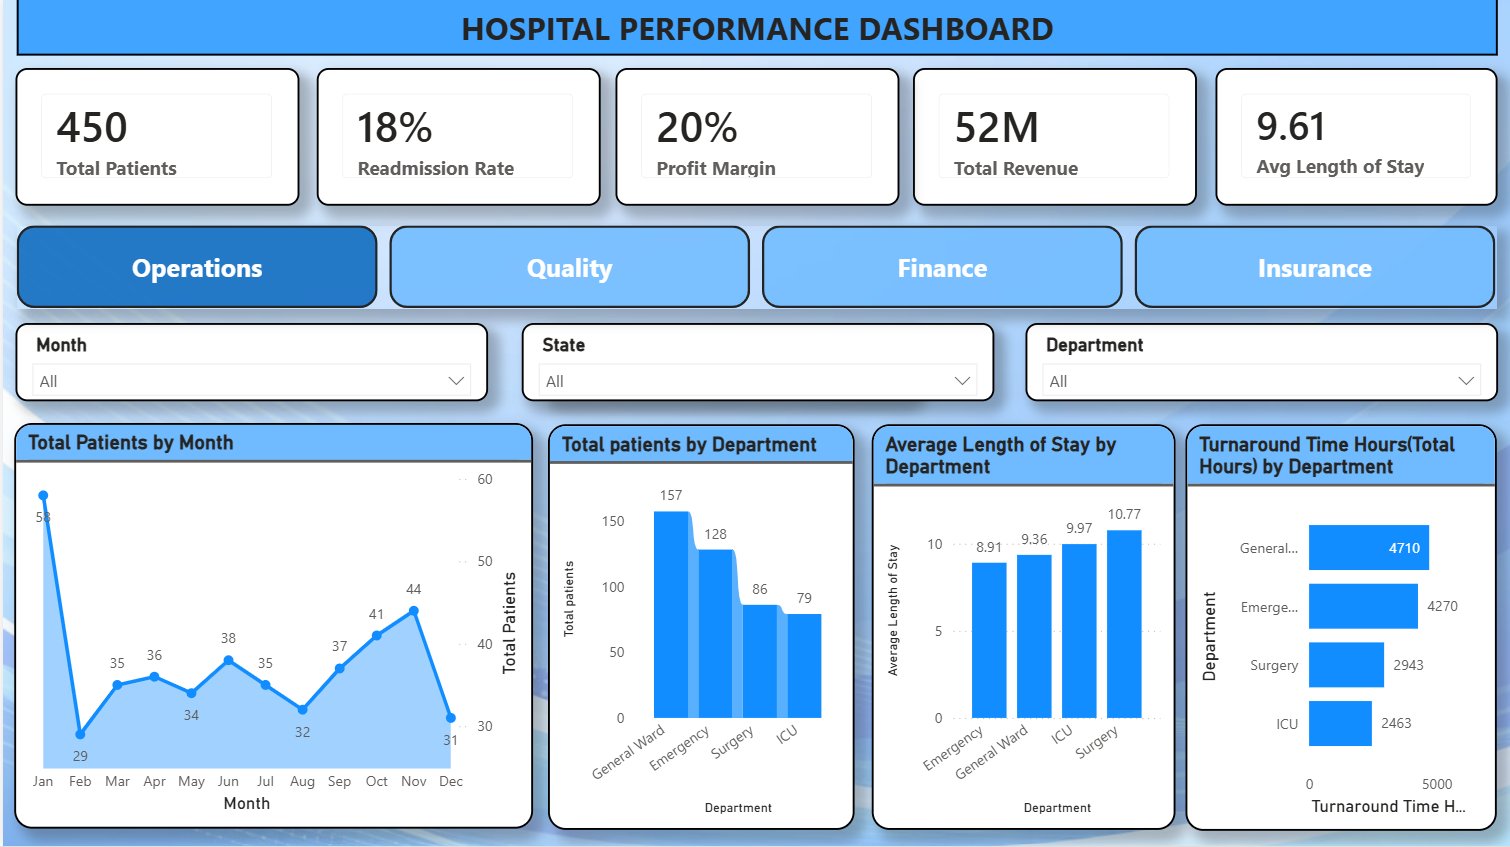

The dashboard page shown, as its layout file describes it:
{"tool":"powerbi","page":{"name":"Page 1","canvas":[1280,720],"ordinal":0},"visuals":[{"type":"textbox","box":[11.6,0,1256.4,48.8],"z":0},{"type":"lineChart","fields":{"Category":["Sheet1.Month"],"Y":["Sum(Sheet1.Infection_Flag)"]},"box":[9.7,360.3,438.3,343.7],"z":0,"group":"g1"},{"type":"actionButton","box":[457.6,275.4,314.6,64.7],"z":1000},{"type":"clusteredBarChart","fields":{"Category":["Sheet1.Department"],"Y":["Sheet1.Readmission Rate"]},"box":[461.9,360.3,260.2,343.7],"z":1000,"group":"g1"},{"type":"slicer","fields":{"Values":["Sheet1.Month"]},"box":[11.1,275.5,400.7,66.8],"z":2000},{"type":"gauge","fields":{"TargetValue":["Sum(Sheet1.Target_Satisfaction)"],"Y":["Avg(Sheet1.Satisfaction_Score)"]},"box":[737.4,363.1,257.4,343.7],"z":2000,"group":"g1"},{"type":"slicer","fields":{"Values":["Sheet1.State"]},"box":[439.7,275.5,400.7,66.8],"z":3000},{"type":"barChart","fields":{"Y":["Sheet1.Mortality Rate %"],"Category":["Sheet1.Department"]},"box":[1003.1,363.1,264.3,343.7],"z":3000,"group":"g1"},{"type":"slicer","fields":{"Values":["Sheet1.Department"]},"box":[866.8,275.5,400.7,66.8],"z":4000},{"type":"cardVisual","title":"Total Patients","fields":{"Data":["Sheet1.total patients"]},"box":[11.1,59.8,240.7,116.9],"z":5000},{"type":"cardVisual","fields":{"Data":["Sum(Sheet1.Revenue)"]},"box":[772.2,59.8,240.7,116.9],"z":6000},{"type":"cardVisual","fields":{"Data":["Sheet1.Readmission Rate"]},"box":[265.7,59.8,240.7,116.9],"z":7000},{"type":"cardVisual","fields":{"Data":["Sheet1.Profit Margin %"]},"box":[519,59.8,240.7,116.9],"z":8000},{"type":"cardVisual","fields":{"Data":["Avg(Sheet1.Length_of_Stay)"]},"box":[1028.2,59.8,239.3,116.9],"z":9000},{"type":"group","id":"g1","title":"Quality","box":[9.7,360.3,1257.7,346.4],"z":11000},{"type":"bookmarkNavigator","box":[12,192.7,1255.3,70.7],"z":14000}]}

Visuals, with their boxes in screenshot pixels (x1, y1, x2, y2), scaled from the page's 1280x720 canvas onto the 1510x847 screenshot:
textbox: box(14, 0, 1496, 57)
lineChart - Sheet1.Month x Sum(Sheet1.Infection_Flag): box(11, 424, 528, 828)
actionButton: box(540, 324, 911, 400)
clusteredBarChart - Sheet1.Department x Sheet1.Readmission Rate: box(545, 424, 852, 828)
slicer - Sheet1.Month: box(13, 324, 486, 403)
gauge - Sum(Sheet1.Target_Satisfaction) x Avg(Sheet1.Satisfaction_Score): box(870, 427, 1174, 831)
slicer - Sheet1.State: box(519, 324, 991, 403)
barChart - Sheet1.Mortality Rate % x Sheet1.Department: box(1183, 427, 1495, 831)
slicer - Sheet1.Department: box(1023, 324, 1495, 403)
"Total Patients" cardVisual: box(13, 70, 297, 208)
cardVisual - Sum(Sheet1.Revenue): box(911, 70, 1195, 208)
cardVisual - Sheet1.Readmission Rate: box(313, 70, 597, 208)
cardVisual - Sheet1.Profit Margin %: box(612, 70, 896, 208)
cardVisual - Avg(Sheet1.Length_of_Stay): box(1213, 70, 1495, 208)
"Quality" group: box(11, 424, 1495, 831)
bookmarkNavigator: box(14, 227, 1495, 310)
